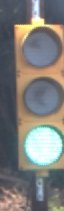Green: (10, 20, 64, 190)
